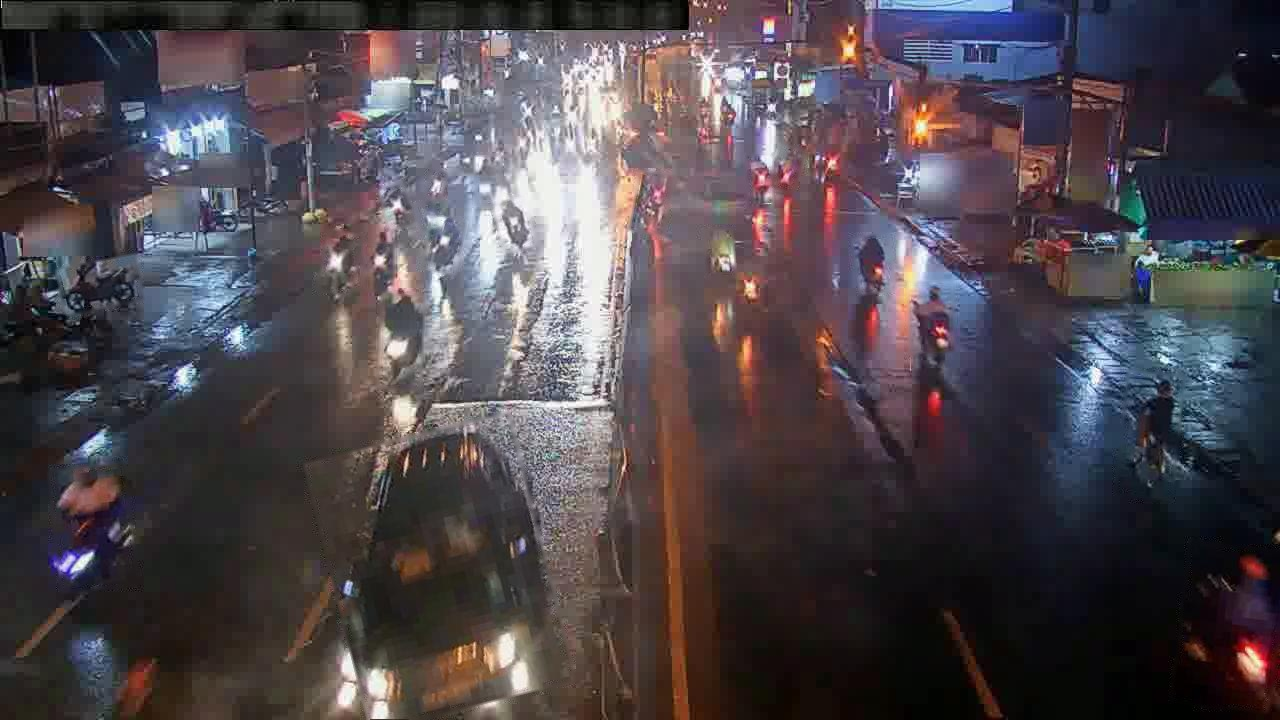Car: (326, 428, 546, 719), (916, 223, 961, 255)
Motorcyclist: (1179, 554, 1279, 719), (53, 468, 132, 590), (1129, 379, 1175, 487), (64, 260, 135, 313), (384, 290, 422, 385), (912, 287, 951, 370), (325, 230, 357, 299), (635, 172, 668, 231), (429, 216, 461, 271), (858, 235, 886, 296), (474, 157, 504, 208), (499, 199, 528, 250), (706, 230, 736, 276), (772, 149, 800, 194), (382, 186, 410, 227), (370, 243, 394, 290), (749, 157, 772, 204), (418, 203, 439, 236), (427, 171, 446, 200)
Traffic light: (638, 103, 658, 168)
